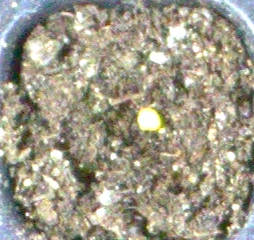pepper seed: (55, 42, 217, 173)
